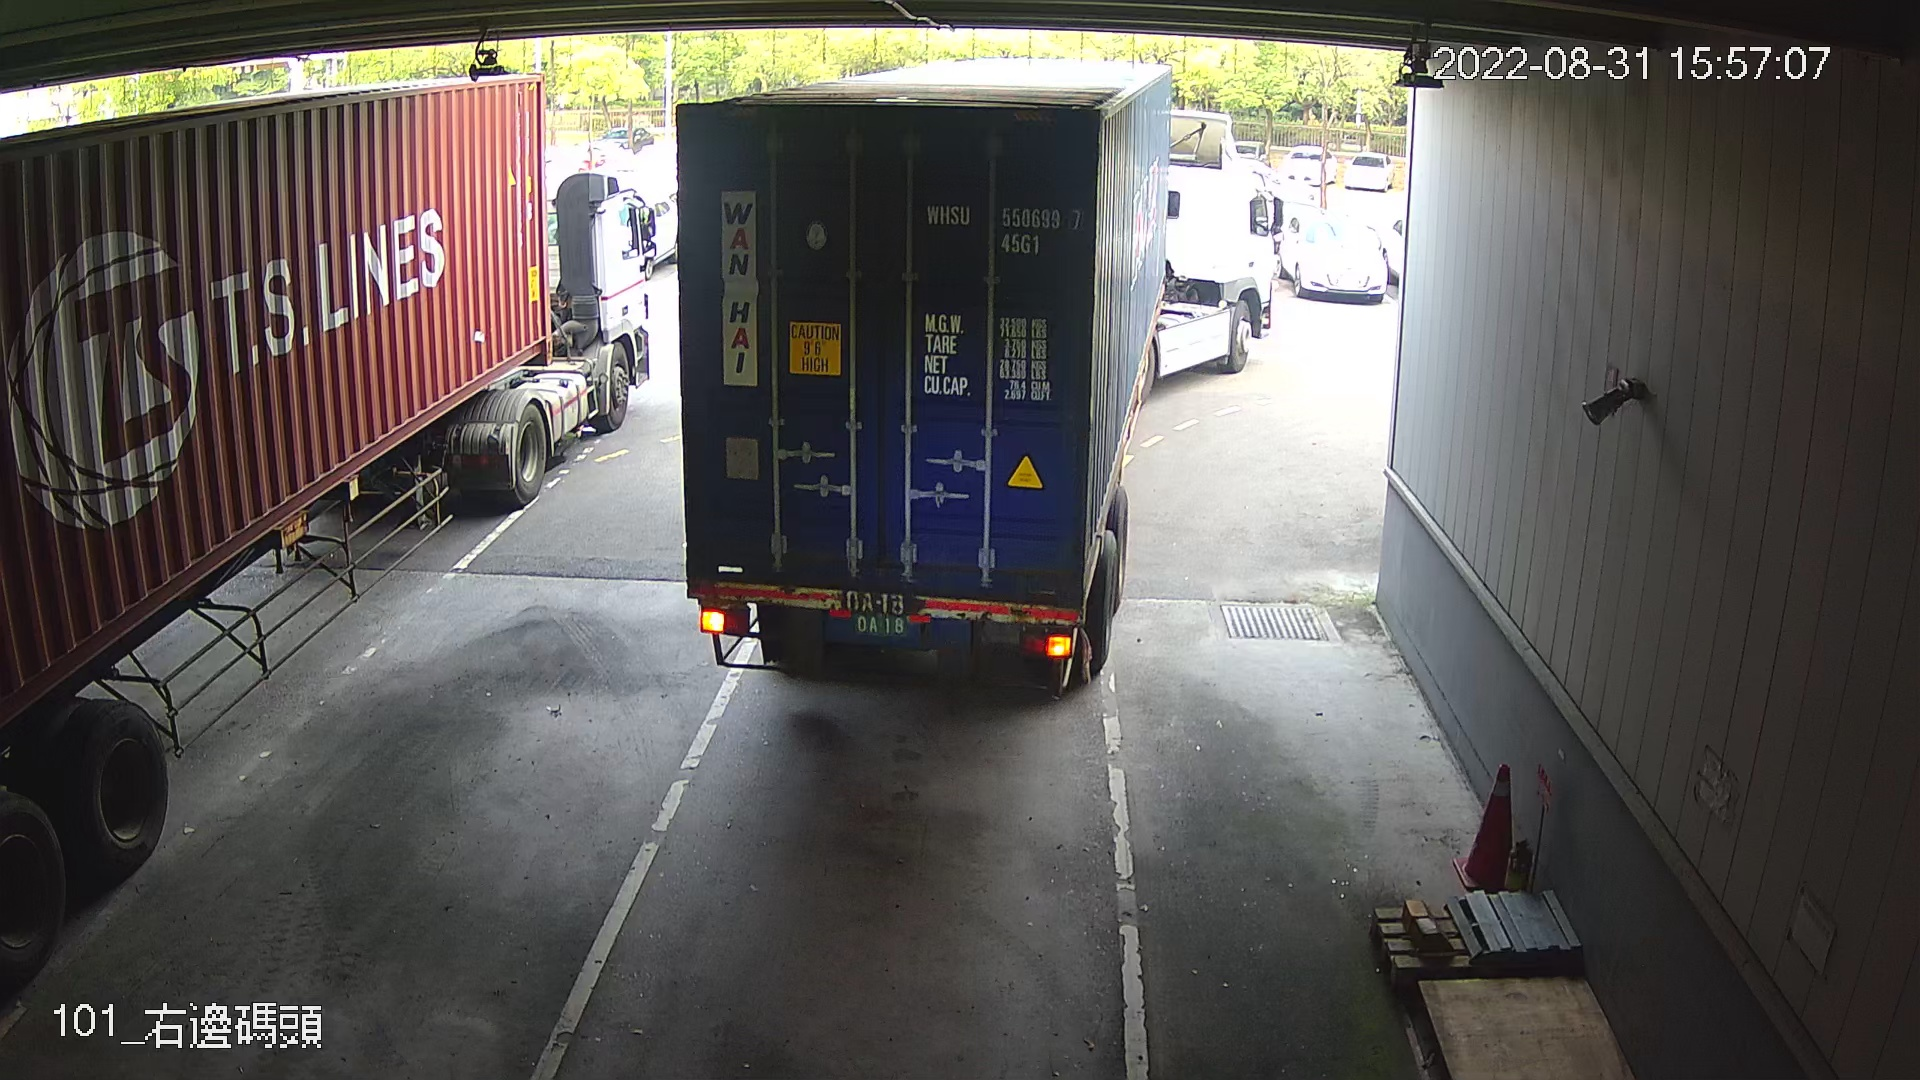container: (916, 191, 1092, 261)
